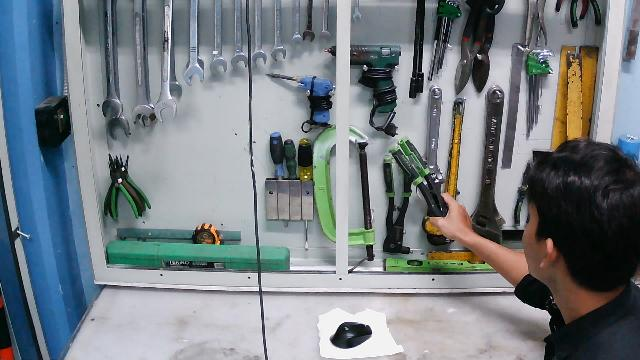tang_rivet: (388, 137, 454, 230)
